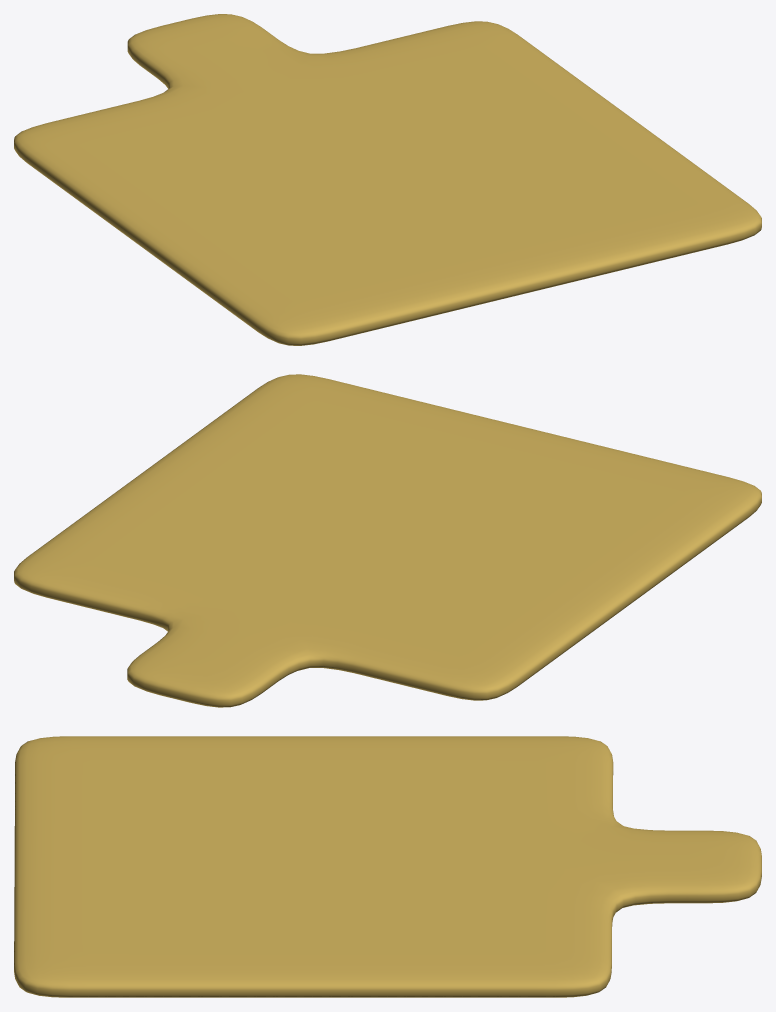
The model's file is GoldenPuzzle-17-OOOM.fbx.
3 views of the same model, one above another, from view 1: azimuth 30°, elevation 25°; view 2: azimuth 150°, elevation 25°; view 3: azimuth 270°, elevation 25° (orthographic). The views are drawn at different scales.
Parts seen in each view (by area): view 1: Puzzle_017; view 2: Puzzle_017; view 3: Puzzle_017.
Boxes of the visible parts, left/top/right/bottom form: Puzzle_017: left=14, top=14, right=761, bottom=345; Puzzle_017: left=14, top=374, right=761, bottom=707; Puzzle_017: left=14, top=736, right=761, bottom=997.
Bounding box in the file's own units: 0.25 × 0.00924 × 0.3138.
